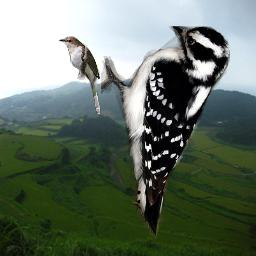Cuckoo: (58, 36, 101, 115)
Woodpecker: (101, 26, 230, 242)
